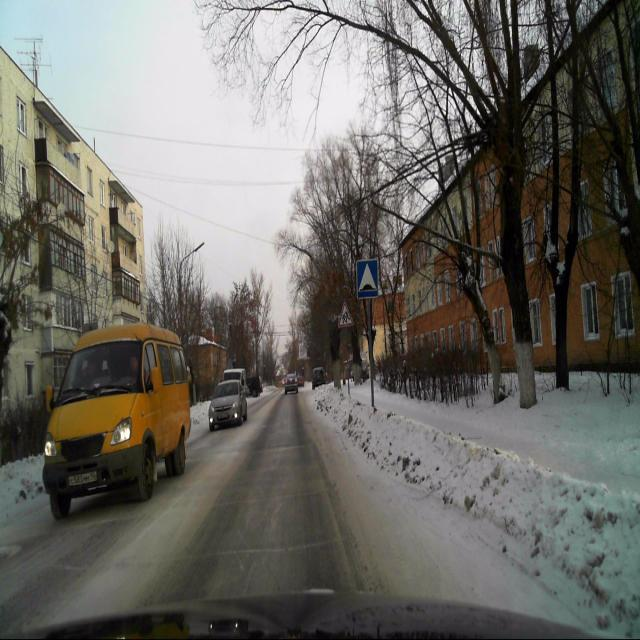road sign: (356, 259, 378, 300), (338, 302, 354, 328)
